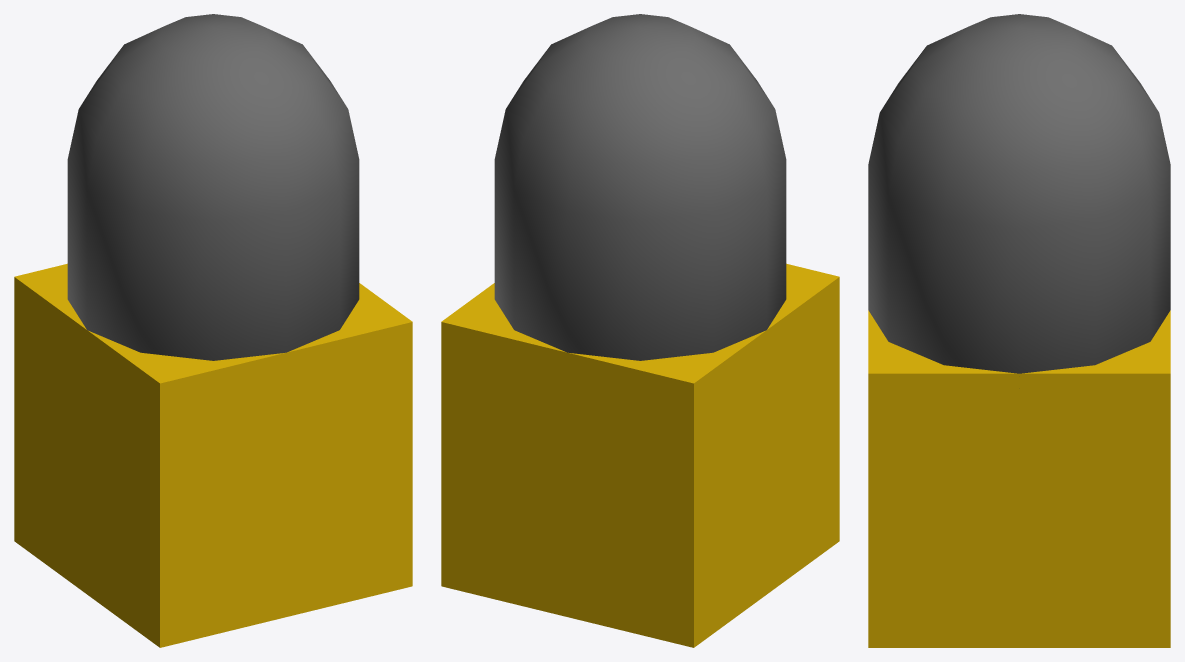
File: bala.fbx
3 renders of one model, left to right at view 1: azimuth 30°, elevation 25°; view 2: azimuth 150°, elevation 25°; view 3: azimuth 270°, elevation 25°, orthographic. The views are drawn at different scales.
Visible parts, largest first — view 1: Cube, Sphere; view 2: Cube, Sphere; view 3: Sphere, Cube.
Boxes of the visible parts, left/top/right/bottom form: Cube: left=14, top=263, right=412, bottom=647; Sphere: left=67, top=14, right=359, bottom=360; Cube: left=441, top=263, right=839, bottom=647; Sphere: left=494, top=14, right=786, bottom=360; Sphere: left=868, top=14, right=1170, bottom=373; Cube: left=868, top=310, right=1170, bottom=647.
Bounding box in the file's own units: 200 × 406 × 200.
